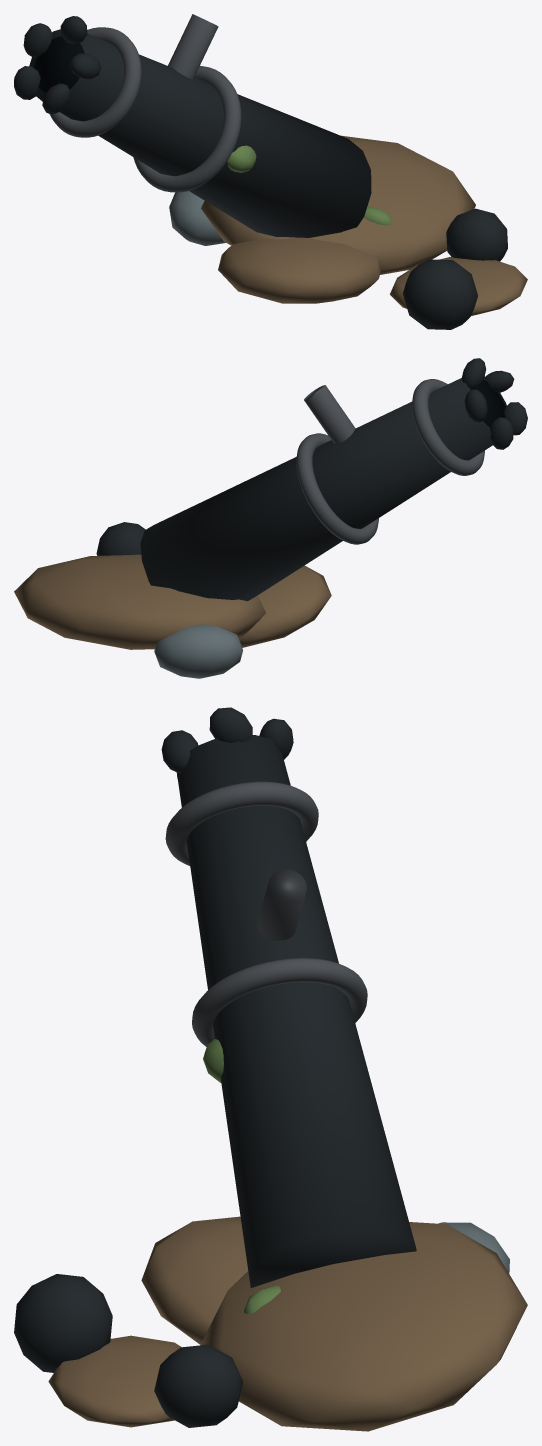
File: 3D模型 props_cannon.glb
3 views of the same model, one above another, from view 1: azimuth 30°, elevation 25°; view 2: azimuth 150°, elevation 25°; view 3: azimuth 270°, elevation 25° (orthographic). The views are drawn at different scales.
Parts seen in each view (by area): view 1: part_barrel, part_mound, part_mound_b, part_ball_0, part_band_1, part_band_0, part_ballpile, part_ball_1, part_stone_a, part_trunnion, part_bore, part_jag_2 (+6 smaller); view 2: part_barrel, part_mound, part_mound_b, part_stone_a, part_band_1, part_band_0, part_trunnion, part_ball_1, part_bore, part_jag_3, part_jag_2, part_jag_1 (+2 smaller); view 3: part_barrel, part_mound, part_mound_b, part_ballpile, part_ball_0, part_ball_1, part_band_1, part_band_0, part_trunnion, part_jag_1, part_jag_0, part_stone_a.
Boxes of the visible parts, box(x1,y1,x2,y2) form: part_barrel: box(29, 29, 371, 237); part_mound: box(201, 135, 475, 274); part_mound_b: box(218, 237, 380, 303); part_ball_0: box(402, 259, 477, 329); part_band_1: box(133, 66, 241, 192); part_band_0: box(49, 27, 141, 137); part_ballpile: box(390, 257, 527, 315); part_ball_1: box(446, 208, 507, 261); part_stone_a: box(169, 191, 225, 245); part_trunnion: box(168, 14, 218, 79); part_bore: box(34, 36, 84, 92); part_jag_2: box(23, 23, 52, 57); part_barrel: box(140, 376, 506, 601); part_mound: box(14, 554, 265, 649); part_mound_b: box(238, 565, 331, 647); part_stone_a: box(154, 624, 242, 678); part_band_1: box(296, 433, 378, 544); part_band_0: box(412, 379, 484, 475); part_trunnion: box(304, 385, 355, 443); part_ball_1: box(96, 522, 145, 555); part_bore: box(470, 380, 505, 427); part_jag_3: box(490, 417, 513, 449); part_jag_2: box(464, 389, 487, 422); part_jag_1: box(461, 358, 486, 388); part_barrel: box(177, 735, 416, 1287); part_mound: box(200, 1222, 527, 1431); part_mound_b: box(141, 1216, 248, 1344); part_ballpile: box(48, 1335, 181, 1427); part_ball_0: box(14, 1274, 112, 1372); part_ball_1: box(154, 1344, 242, 1427); part_band_1: box(192, 958, 367, 1046); part_band_0: box(165, 781, 318, 865); part_trunnion: box(257, 869, 306, 940); part_jag_1: box(209, 707, 252, 742); part_jag_0: box(161, 730, 198, 773); part_stone_a: box(439, 1222, 509, 1273).
Size of the model in its own units: 1 by 0.6845 by 0.6835.
